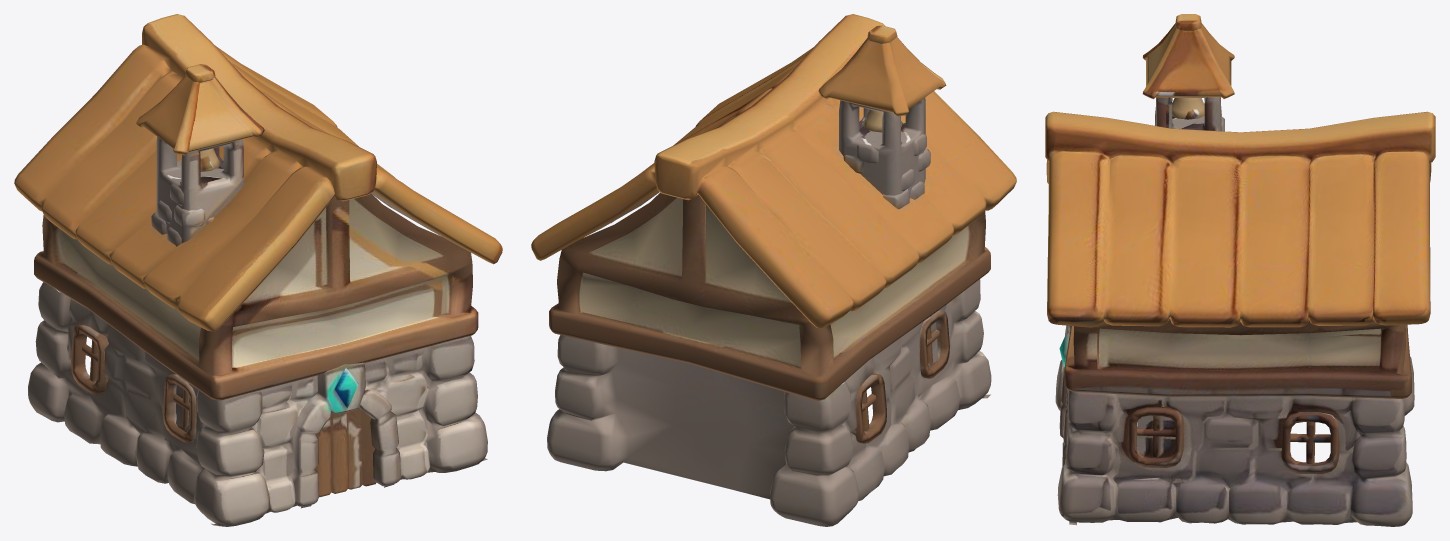
Rendered from maison-jeu-ZIO7ZLHW.glb.
3 views of the same model, side by side, from view 1: azimuth 30°, elevation 25°; view 2: azimuth 150°, elevation 25°; view 3: azimuth 270°, elevation 25° (orthographic).
Visible parts, largest first — view 1: maison; view 2: maison; view 3: maison.
Boxes of the visible parts, <box> form: maison: <box>14,14,502,526</box>; maison: <box>531,14,1016,526</box>; maison: <box>1045,14,1435,526</box>.
Size of the model in its own units: 5.26 by 6.7 by 5.91.
Materials: 1 (1 with a texture image).
